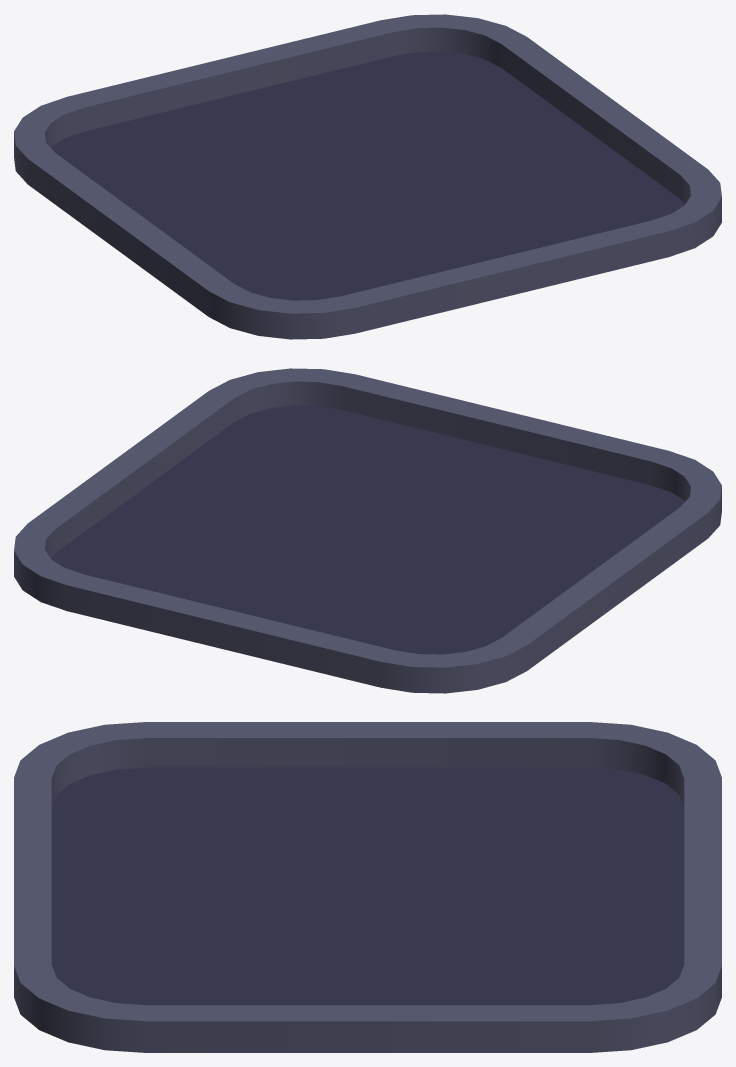
Rendered from reserve.glb.
3 views of the same model, one above another, from view 1: azimuth 30°, elevation 25°; view 2: azimuth 150°, elevation 25°; view 3: azimuth 270°, elevation 25° (orthographic). The views are drawn at different scales.
Visible parts, largest first — view 1: ReserveCenter, ResrveBorder; view 2: ReserveCenter, ResrveBorder; view 3: ReserveCenter, ResrveBorder.
Boxes of the visible parts, x1,y1,x2,y2 form: ReserveCenter: [50, 51, 684, 300]; ResrveBorder: [14, 14, 721, 339]; ReserveCenter: [51, 405, 685, 654]; ResrveBorder: [14, 368, 721, 693]; ReserveCenter: [51, 767, 684, 1005]; ResrveBorder: [14, 722, 721, 1052].
Bounding box in the file's own units: 0.5733 × 0.0284 × 0.5733.
